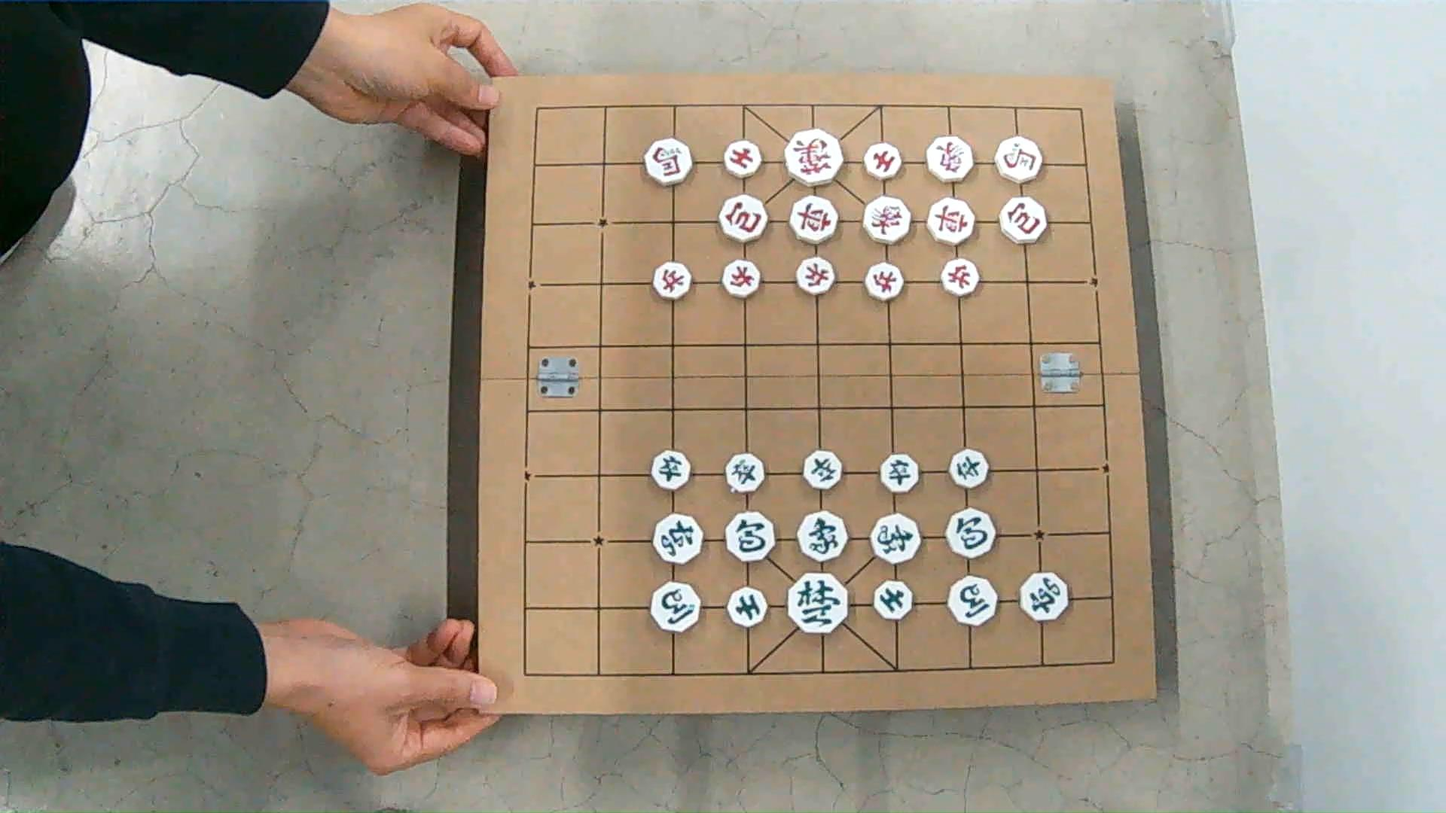cha_green: (652, 514, 702, 564), (1019, 572, 1067, 621)
cha_red: (789, 196, 837, 244), (928, 198, 974, 245)
jol_green: (650, 450, 690, 490), (725, 453, 763, 493), (950, 449, 988, 488), (880, 455, 918, 493), (804, 450, 841, 489)
jol_red: (652, 262, 691, 300), (941, 258, 979, 296), (865, 263, 903, 300), (796, 257, 834, 294), (722, 260, 759, 297)
ma_green: (651, 582, 699, 632), (948, 577, 996, 625)
ma_red: (644, 139, 691, 186), (994, 136, 1042, 182)
po_green: (725, 512, 773, 562), (947, 509, 995, 558)
po_red: (718, 196, 767, 242), (1000, 197, 1046, 243)
sa_green: (728, 587, 767, 628), (874, 580, 911, 620)
sa_red: (723, 140, 761, 178), (864, 143, 901, 180)
sang_green: (798, 511, 846, 562), (871, 514, 919, 564)
sang_red: (863, 196, 910, 244), (926, 137, 972, 182)
wang_green: (788, 572, 847, 634)
wang_red: (786, 129, 843, 186)
